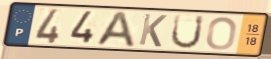4: (34, 7, 62, 45), (68, 10, 95, 46)
A: (93, 10, 137, 49)
K: (137, 12, 169, 49)
O: (204, 16, 239, 52)
U: (169, 13, 206, 50)
